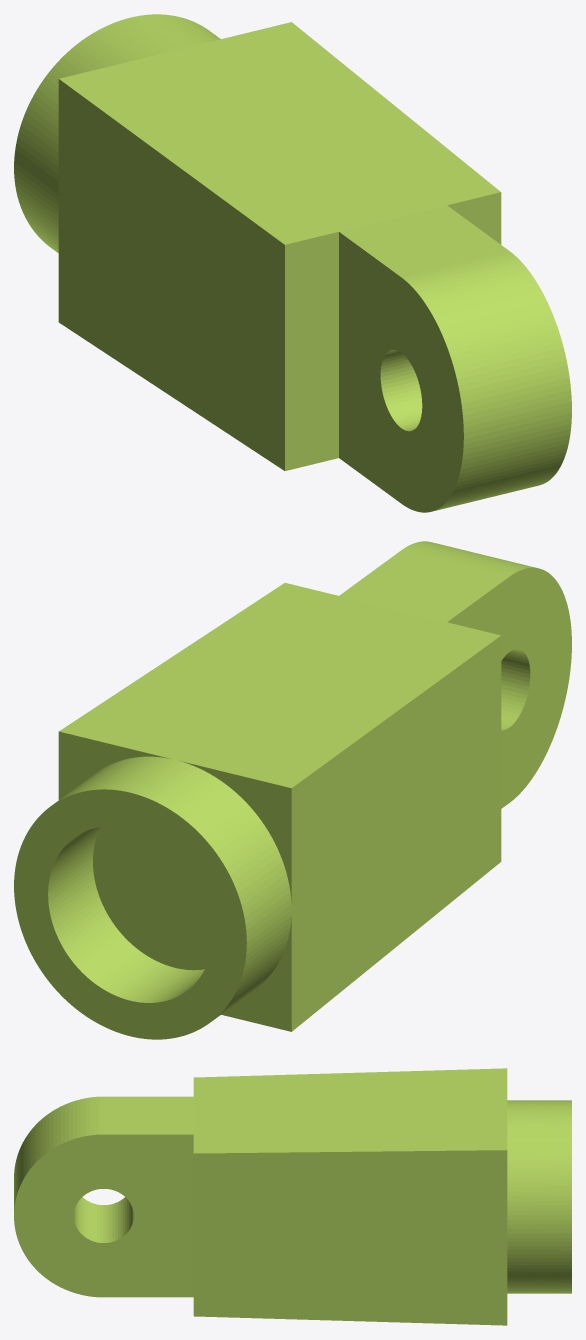
3 renders of one model, top to bottom at view 1: azimuth 30°, elevation 25°; view 2: azimuth 150°, elevation 25°; view 3: azimuth 270°, elevation 25°, orthographic. The views are drawn at different scales.
Parts seen in each view (by area): view 1: node; view 2: node; view 3: node.
Boxes of the visible parts, x1,y1,x2,y2 form: node: (14,14,571,512); node: (14,541,571,1039); node: (14,1068,571,1325).
Size of the model in its own units: 0.0617 by 0.0617 by 0.1779.
